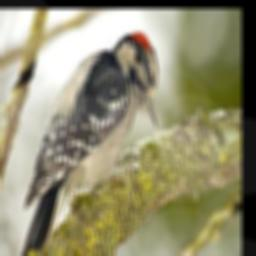Woodpecker: (8, 27, 158, 256)
